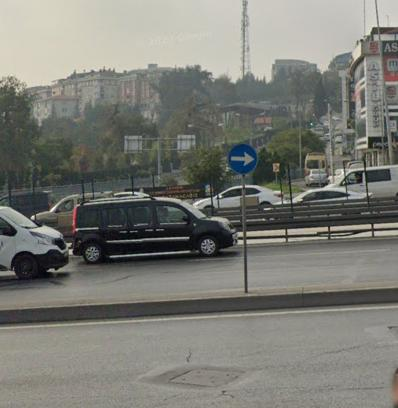turnright: (225, 140, 261, 178)
